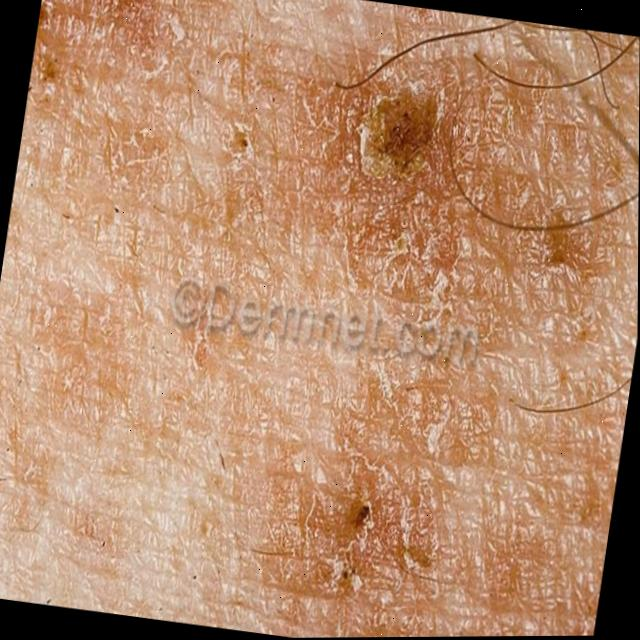Eczema: (359, 81, 597, 309), (298, 408, 440, 596), (42, 0, 151, 60)
